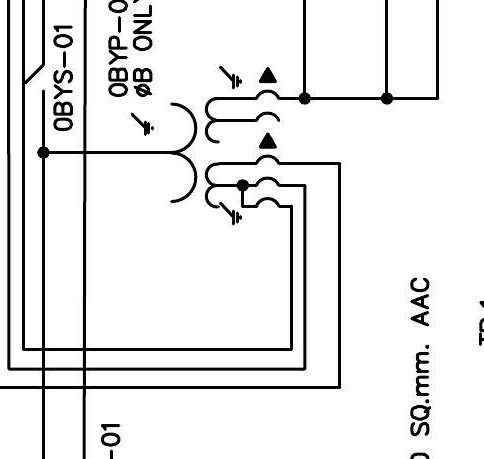115_ds: (25, 64, 46, 94)
115_vt_1p: (129, 65, 281, 227)
